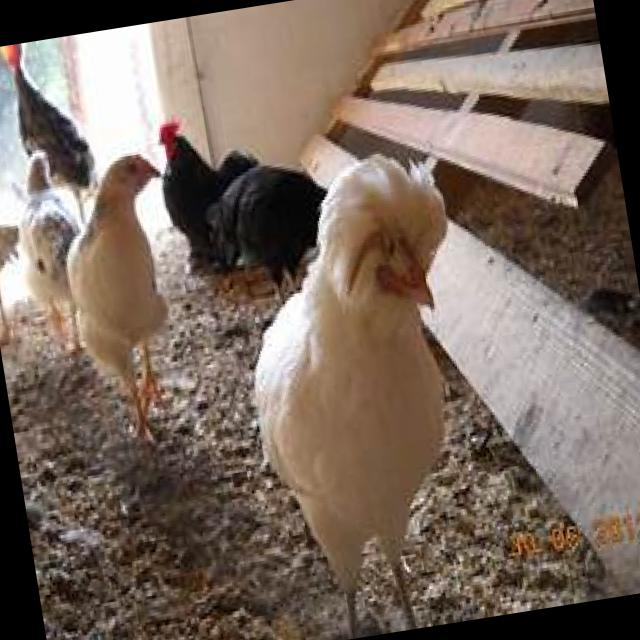animal: (222, 156, 509, 640), (50, 146, 196, 456), (150, 94, 264, 280), (9, 148, 89, 326)
